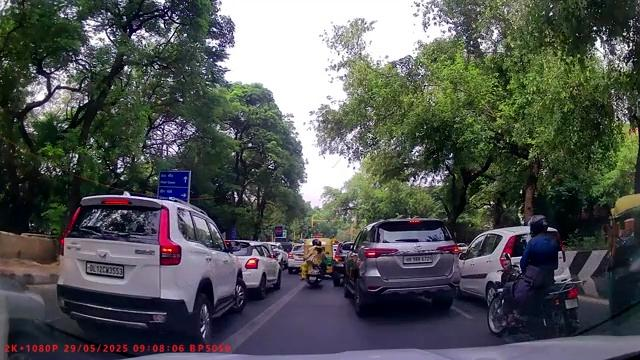motorcycle_with_helmet: (484, 215, 583, 341)
passenger_with_helmet: (303, 238, 326, 289)
